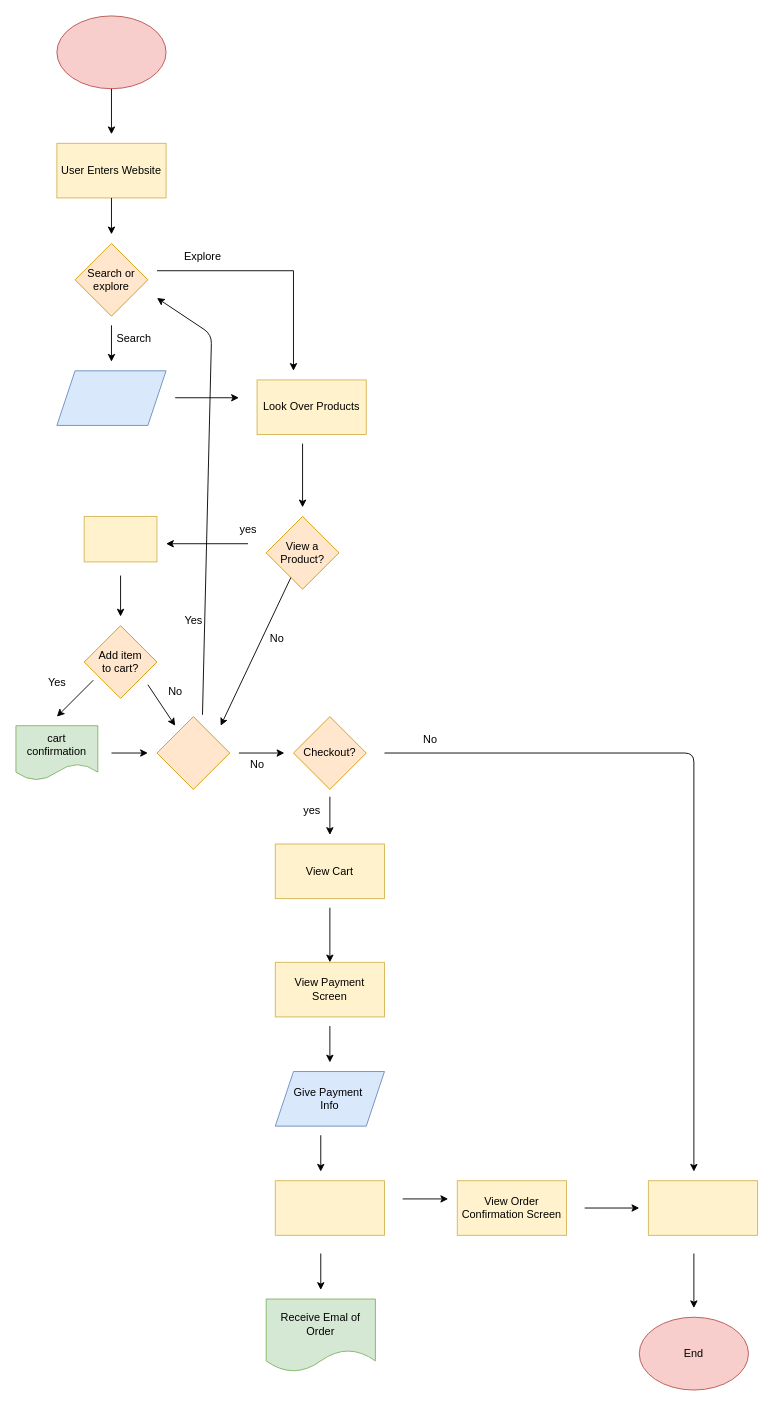
Some shapes in this 774 by 1406 pixel diagram are drawn without their labels. The box of each missing label's shape, as (x1, y1, x2, y2) in pixels:
Continue Shopping?: (156, 716, 230, 789)
Leave Website: (647, 1180, 758, 1235)
Payment: (274, 1180, 384, 1235)
Product's Webpage Opens: (83, 516, 157, 562)
Search Input: (56, 370, 166, 425)
Start: (56, 15, 166, 89)
